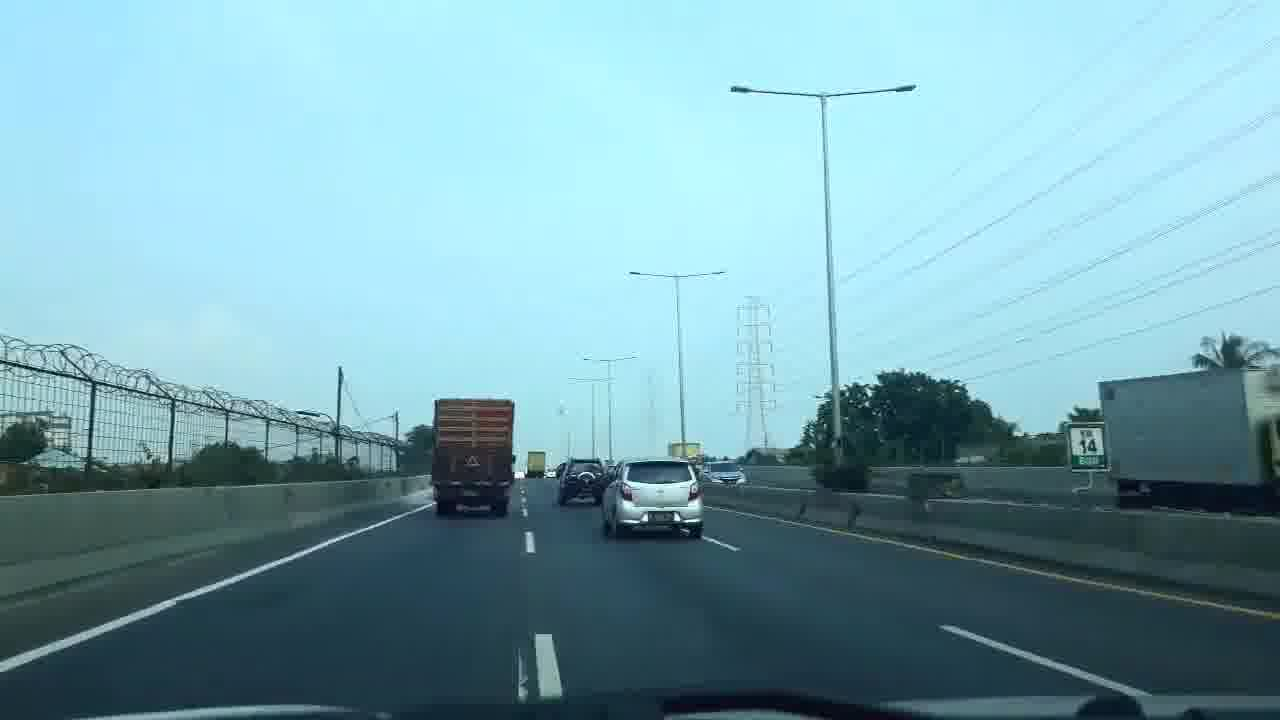plate_positive: (648, 511, 675, 522)
